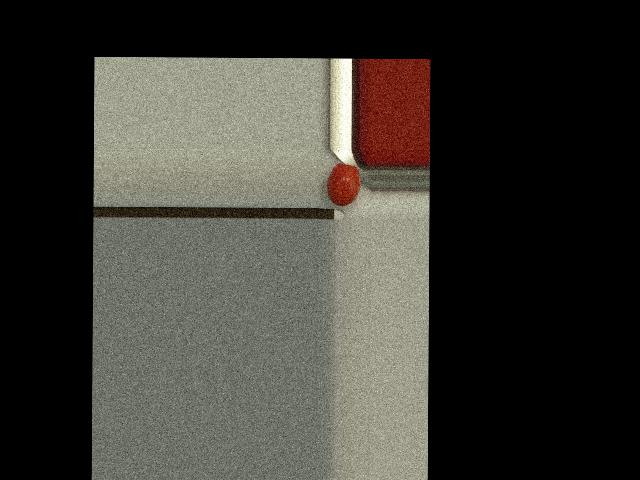tomato: (326, 163, 360, 206)
